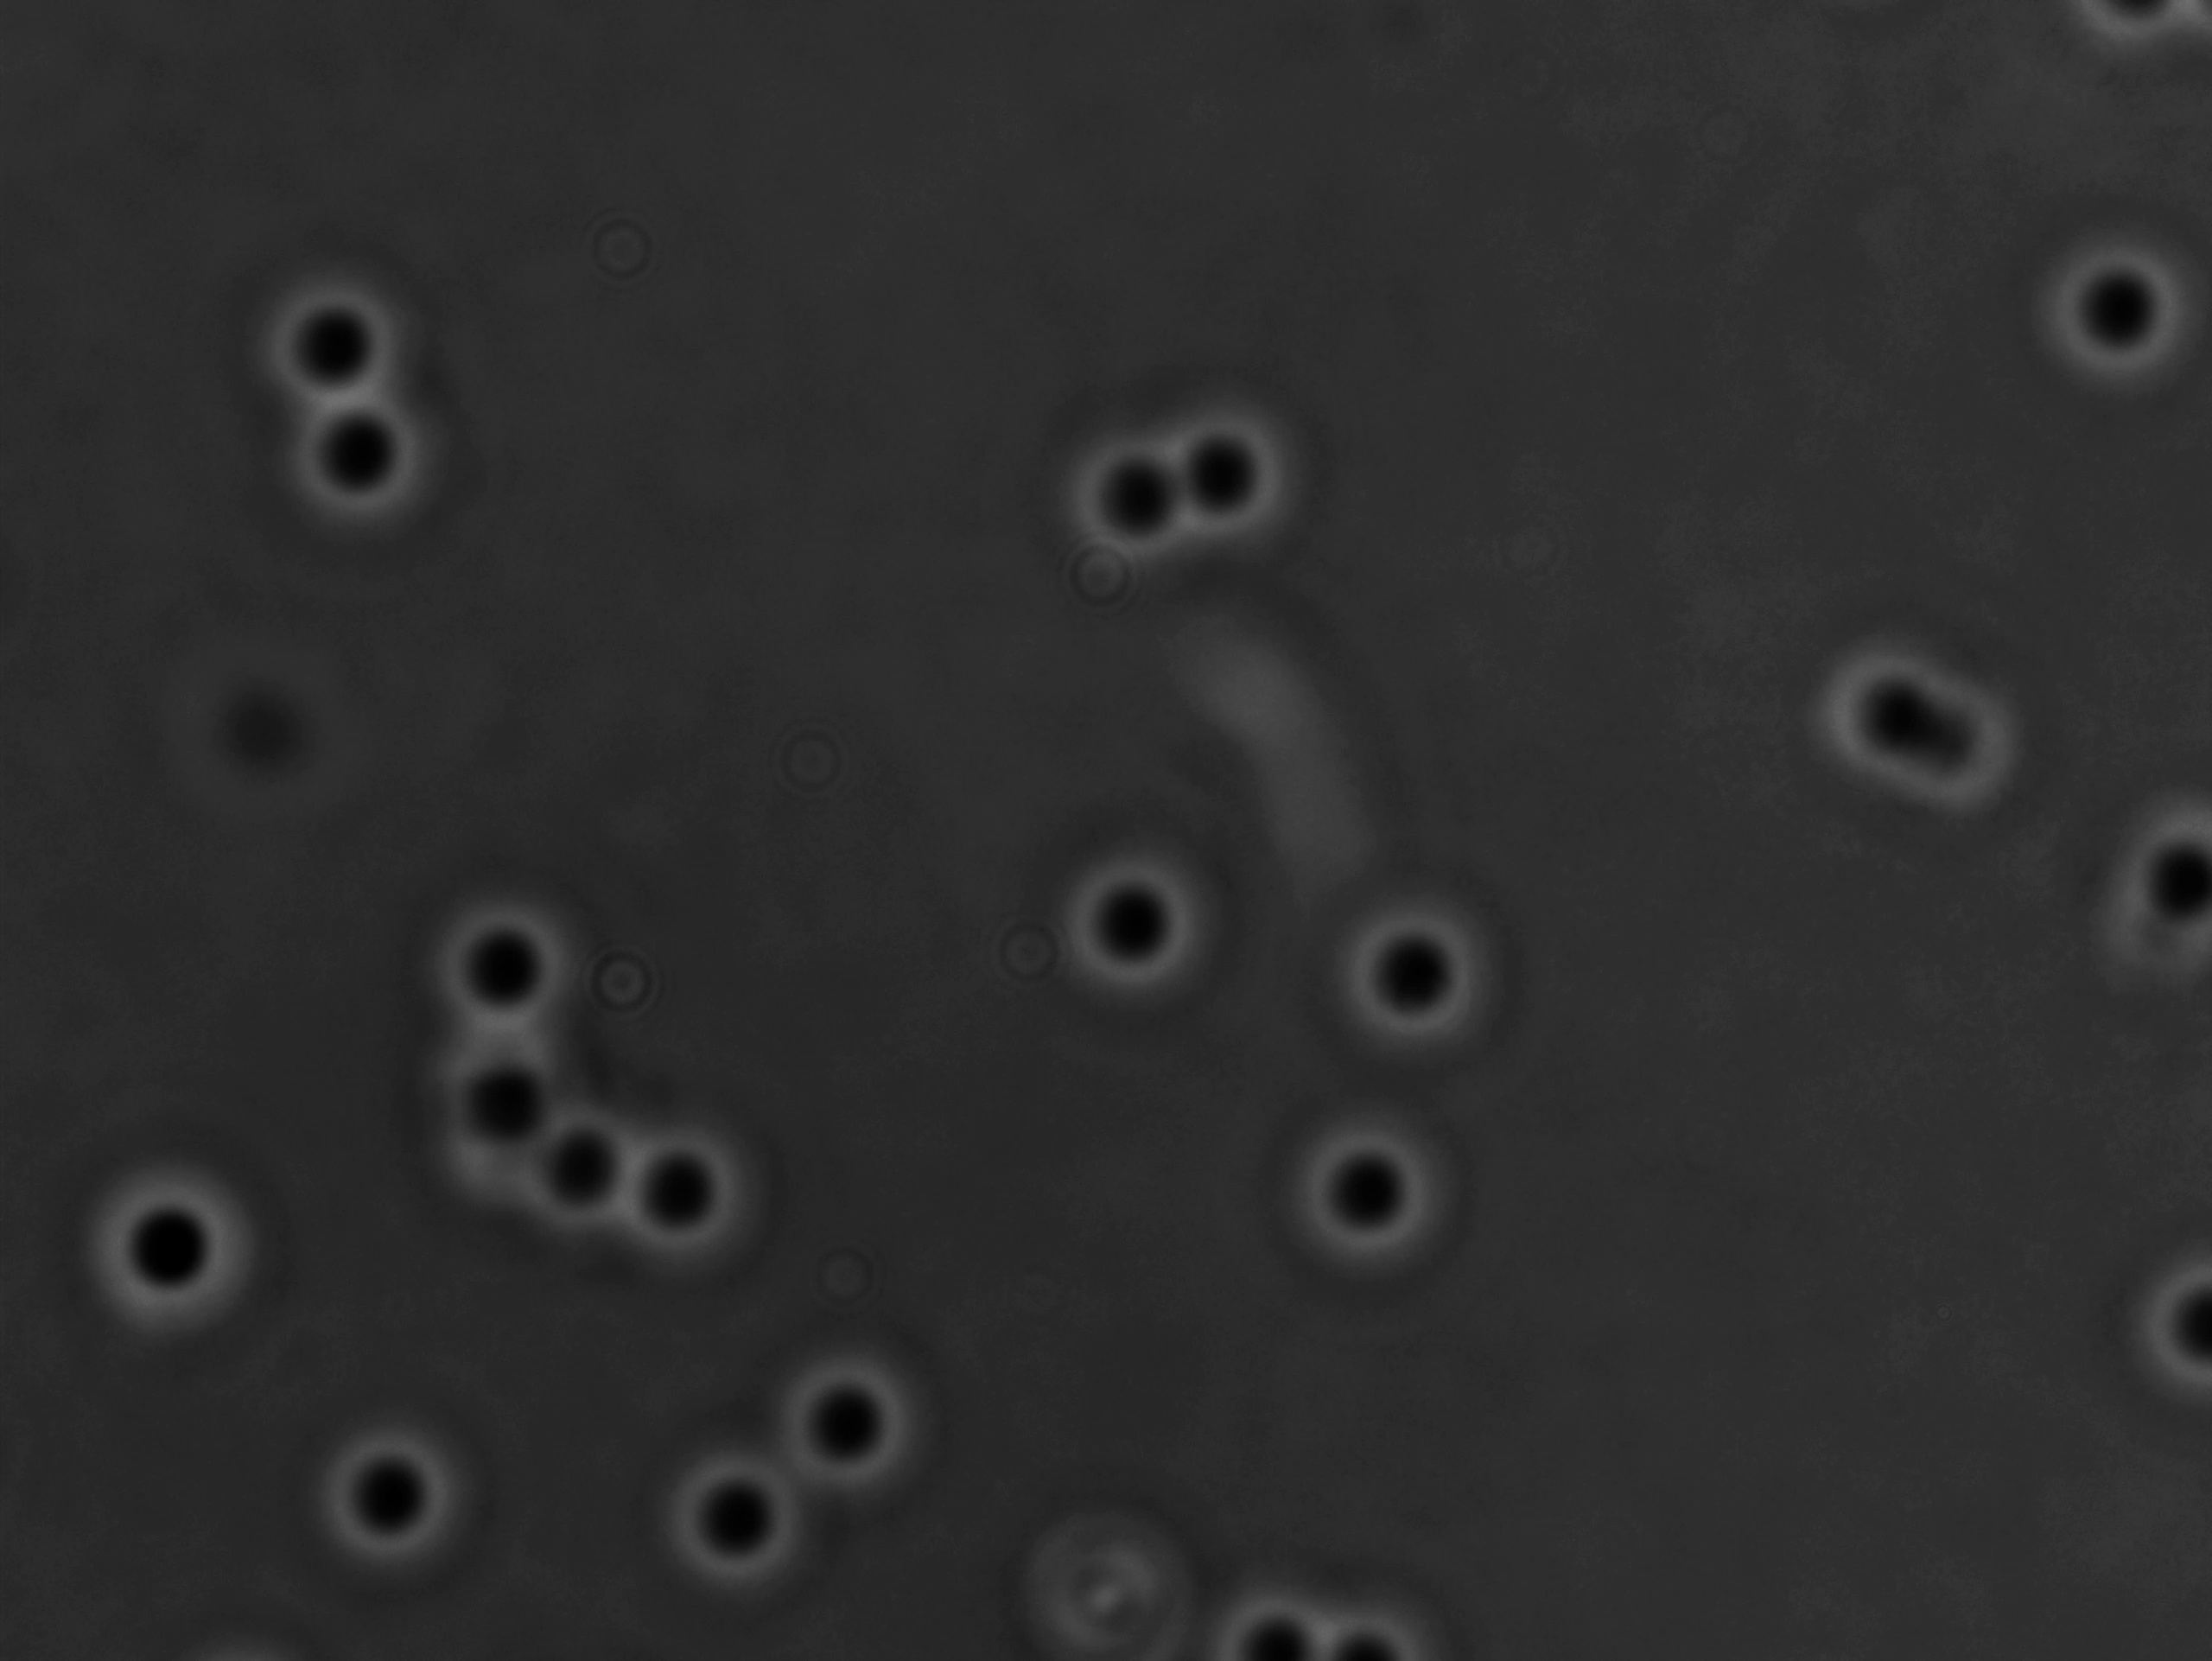depth:-80: (487, 1071, 693, 1263), (2025, 206, 2212, 408), (1322, 888, 1516, 1075), (1266, 1106, 1465, 1286), (297, 1413, 497, 1589), (1162, 366, 1357, 546), (79, 1159, 265, 1340), (647, 1425, 834, 1607), (1036, 824, 1218, 1008), (410, 872, 598, 1049), (776, 1329, 952, 1516), (237, 258, 413, 434), (598, 1106, 775, 1282), (276, 361, 450, 536), (1052, 403, 1230, 574)
